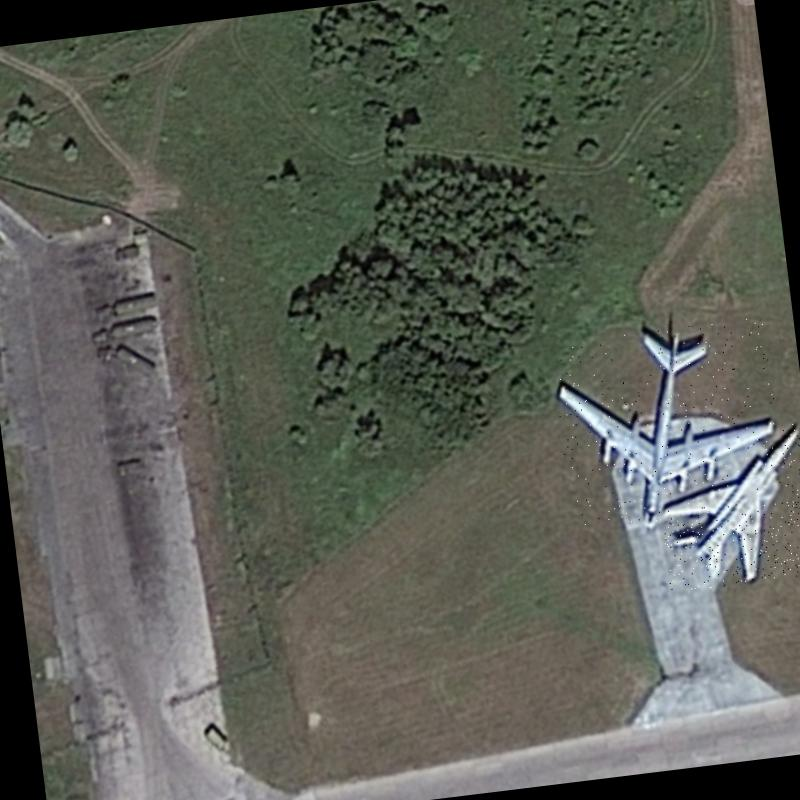A12: (651, 421, 800, 592)
A17: (550, 316, 787, 533)
